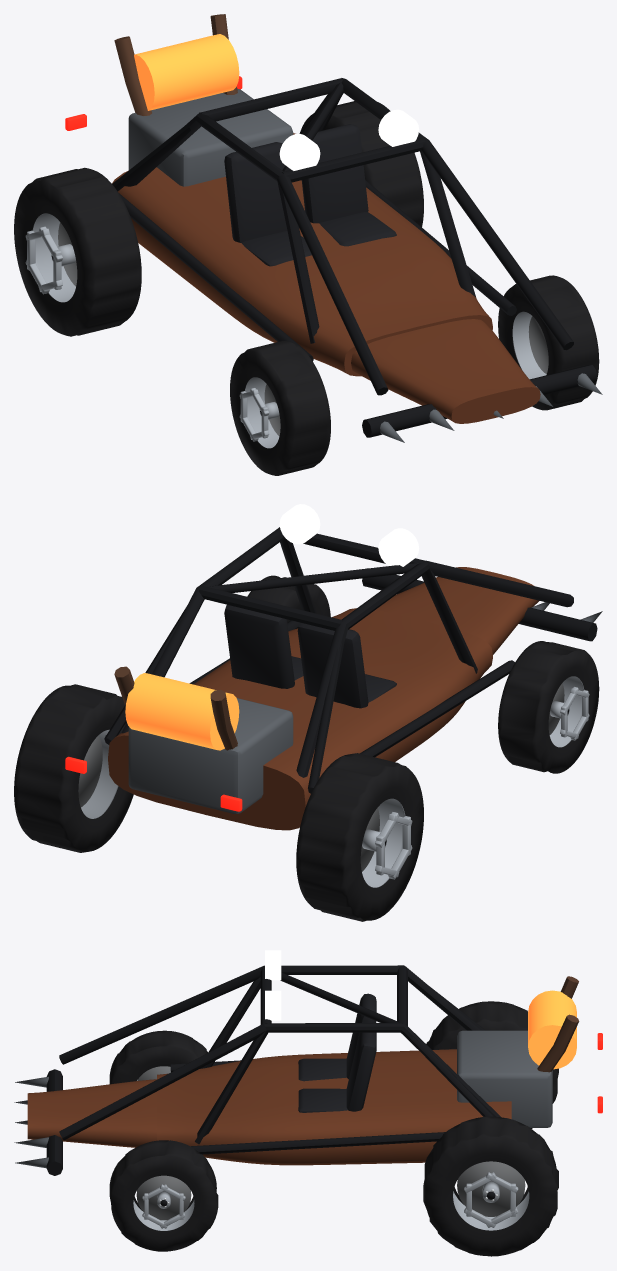
File: raider-buggy.glb
3 renders of one model, top to bottom at view 1: azimuth 30°, elevation 25°; view 2: azimuth 150°, elevation 25°; view 3: azimuth 270°, elevation 25°, orthographic. The views are drawn at different scales.
Visible parts, largest first — view 1: Body, WheelRL, WheelFL, WheelFR, WheelRR; view 2: Body, WheelRL, WheelRR, WheelFL, WheelFR; view 3: Body, WheelRR, WheelFR, WheelFL, WheelRL.
Part boxes in pixels (x1=…): Body: x1=65, y1=14, x2=602, y2=442; WheelRL: x1=14, y1=167, x2=141, y2=336; WheelFL: x1=230, y1=341, x2=330, y2=475; WheelFR: x1=498, y1=275, x2=599, y2=410; WheelRR: x1=300, y1=101, x2=423, y2=226; Body: x1=65, y1=504, x2=602, y2=830; WheelRL: x1=296, y1=753, x2=423, y2=921; WheelRR: x1=14, y1=684, x2=133, y2=852; WheelFL: x1=498, y1=641, x2=599, y2=773; WheelFR: x1=247, y1=575, x2=330, y2=622; Body: x1=14, y1=950, x2=602, y2=1175; WheelRR: x1=423, y1=1116, x2=558, y2=1256; WheelFR: x1=109, y1=1140, x2=218, y2=1251; WheelFL: x1=109, y1=1030, x2=207, y2=1084; WheelRL: x1=426, y1=1001, x2=558, y2=1128.
Bounding box in the file's own units: 2.52 × 1.77 × 4.32.
